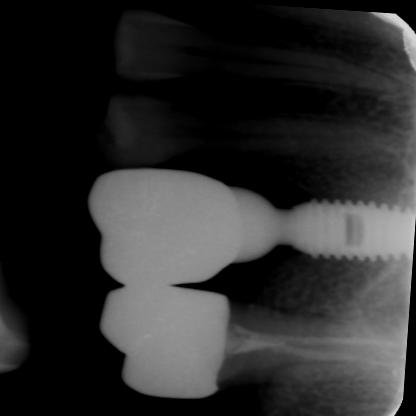Bicon: (229, 174, 415, 283)
